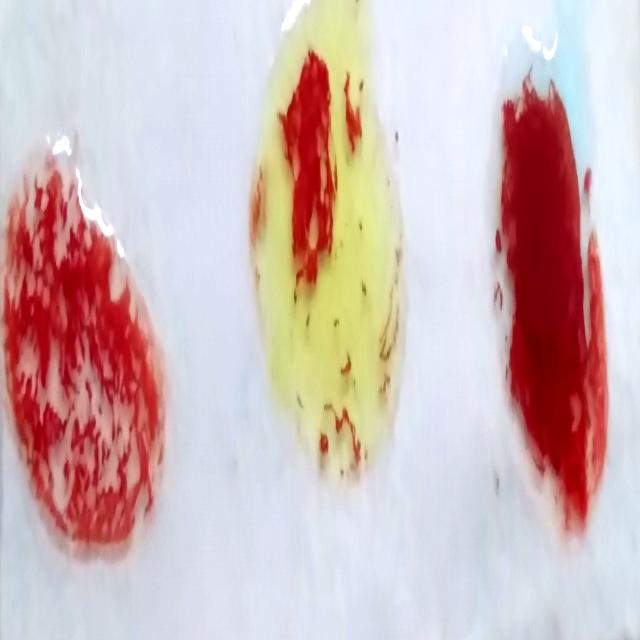A: (497, 33, 612, 524)
B: (253, 14, 398, 469)
D: (4, 157, 152, 540)
